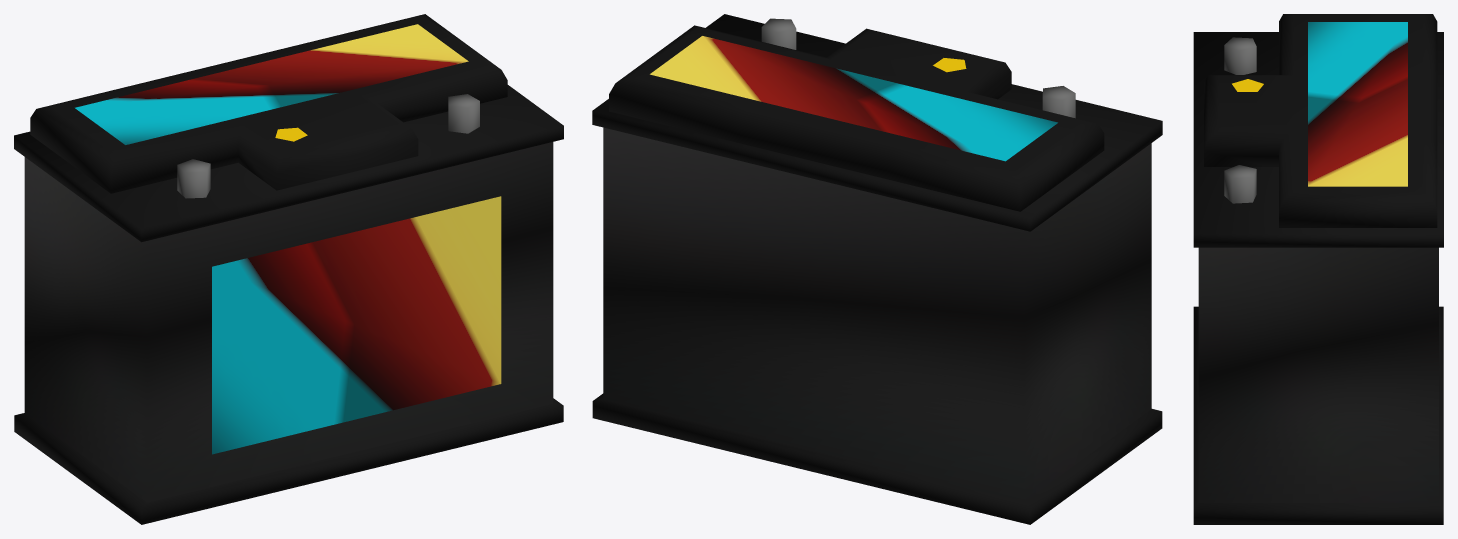
File: Bateria.fbx
3 views of the same model, side by side, from view 1: azimuth 30°, elevation 25°; view 2: azimuth 150°, elevation 25°; view 3: azimuth 270°, elevation 25° (orthographic). The views are drawn at different scales.
Parts seen in each view (by area): view 1: Bateria; view 2: Bateria; view 3: Bateria.
Part boxes in pixels (bbox=[...]): Bateria: bbox=[14, 14, 563, 524]; Bateria: bbox=[592, 14, 1162, 524]; Bateria: bbox=[1193, 14, 1443, 524].
Size of the model in its own units: 54.83 by 40.61 by 28.95.
